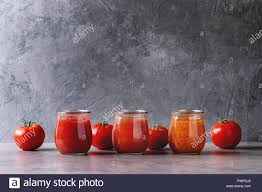Tomato: (210, 114, 243, 148), (14, 120, 46, 151), (92, 119, 113, 148)
